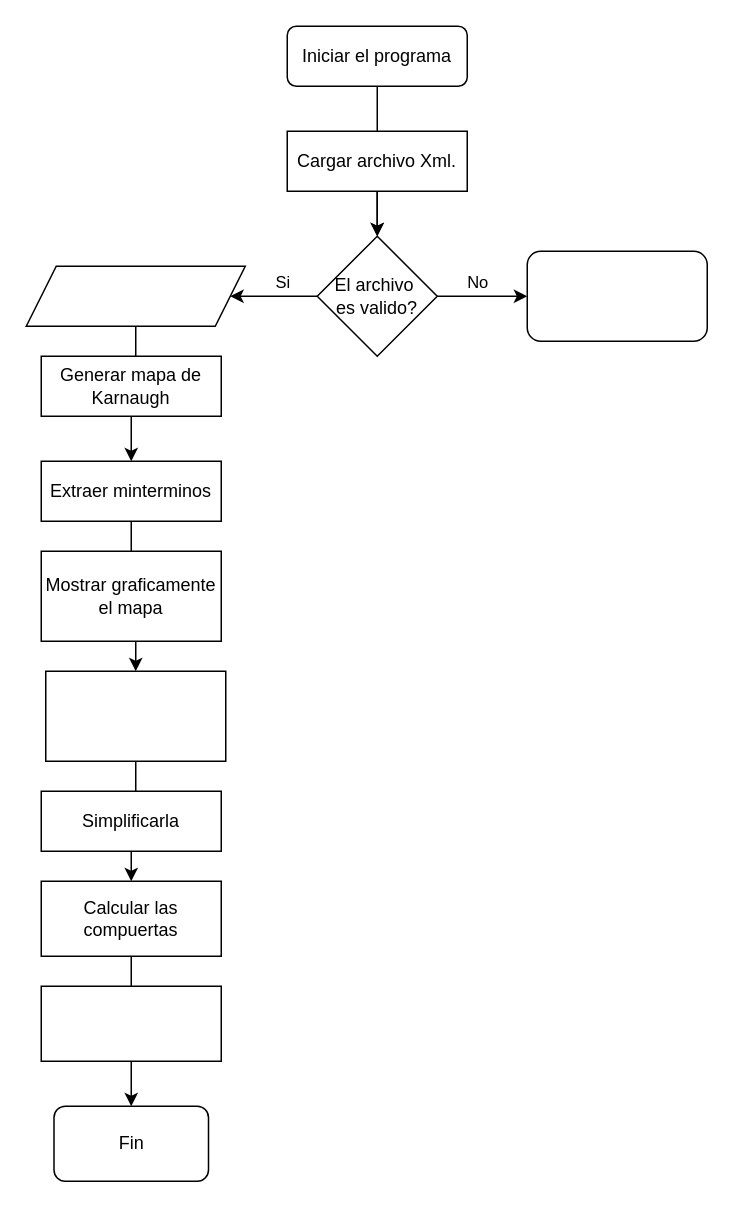
This 734x1208 diagram has some shape labels left out. The centre of each missing label's shape, as x and y in pixels:
"Calcular la funcion booleana canonica" goes at point 135,715.
"Error" goes at point 616,295.
"Leerlo y cargar datos" goes at point 135,295.
"Mostrar el resultado al usuario" goes at point 130,1023.
